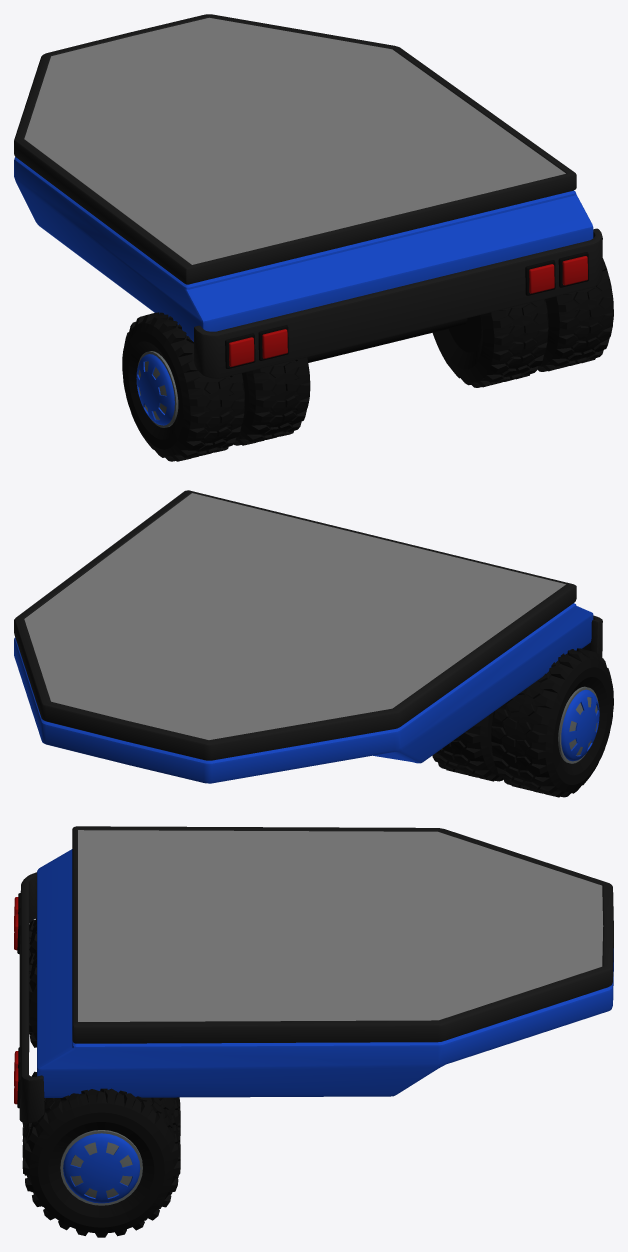
File: TruckBack.fbx
The picture shows the model from 3 angles, top to bottom: view 1: azimuth 30°, elevation 25°; view 2: azimuth 150°, elevation 25°; view 3: azimuth 270°, elevation 25°; orthographic projection. The views are drawn at different scales.
Visible parts, largest first — view 1: TruckBack, BackWheels; view 2: TruckBack, BackWheels; view 3: TruckBack, BackWheels.
Part boxes in pixels (x1,y1,x2,y2): TruckBack: [14, 14, 602, 378]; BackWheels: [122, 258, 613, 461]; TruckBack: [14, 490, 602, 783]; BackWheels: [432, 648, 613, 797]; TruckBack: [14, 826, 613, 1123]; BackWheels: [22, 918, 180, 1237].
Bounding box in the file's own units: 425 × 181 × 478.
